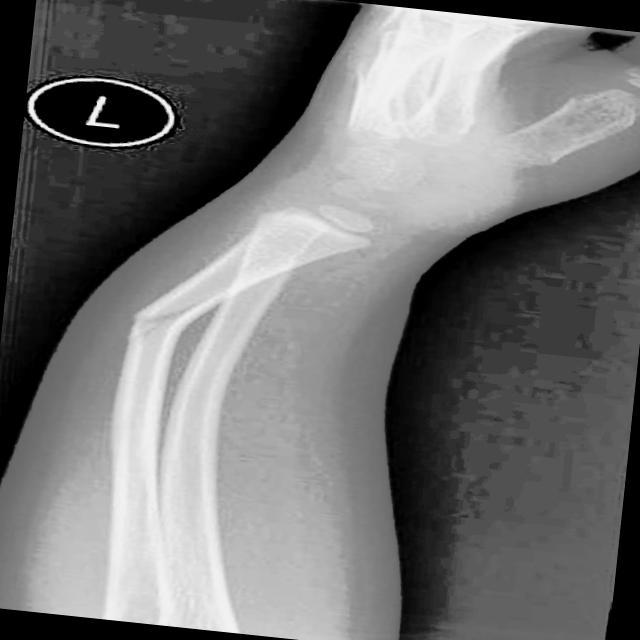GreenStick Fracture: (136, 301, 188, 346)
